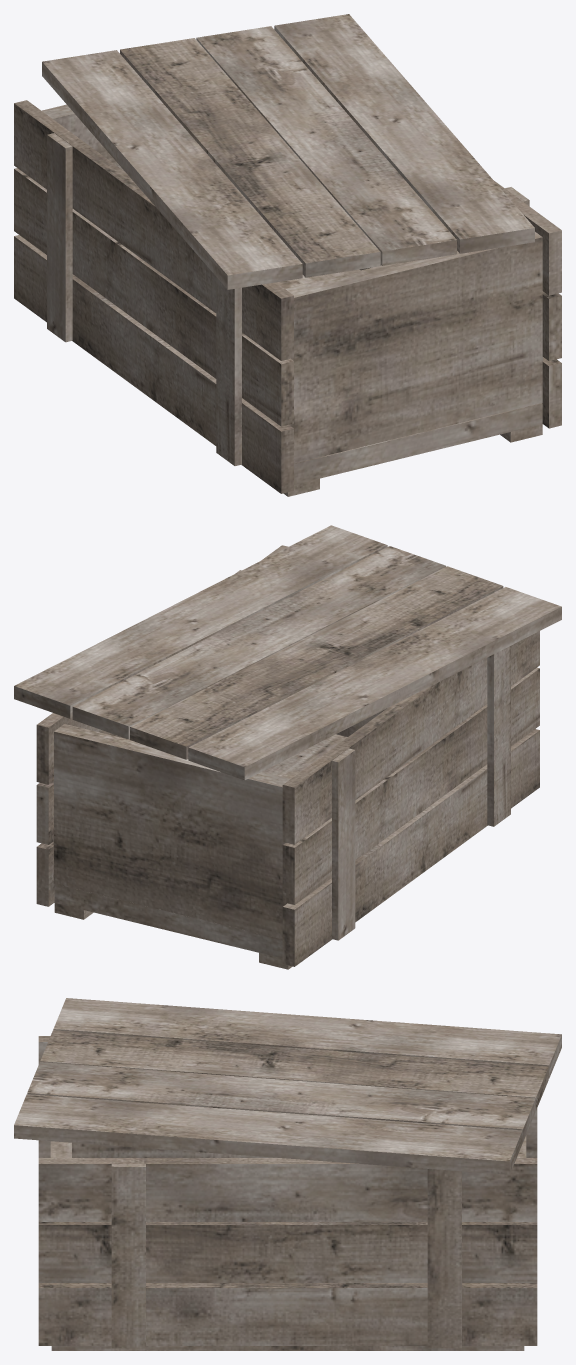
The model's file is simple_short_crate.glb.
The picture shows the model from 3 angles, top to bottom: view 1: azimuth 30°, elevation 25°; view 2: azimuth 150°, elevation 25°; view 3: azimuth 270°, elevation 25°; orthographic projection. The views are drawn at different scales.
Parts seen in each view (by area): view 1: Object_2; view 2: Object_2; view 3: Object_2.
Part boxes in pixels (<box>): Object_2: <box>14,14,561,496</box>; Object_2: <box>14,525,561,969</box>; Object_2: <box>14,998,561,1350</box>.
Bounding box in the file's own units: 3.12 × 1.9 × 4.43.
Materials: 1 (1 with a texture image).
